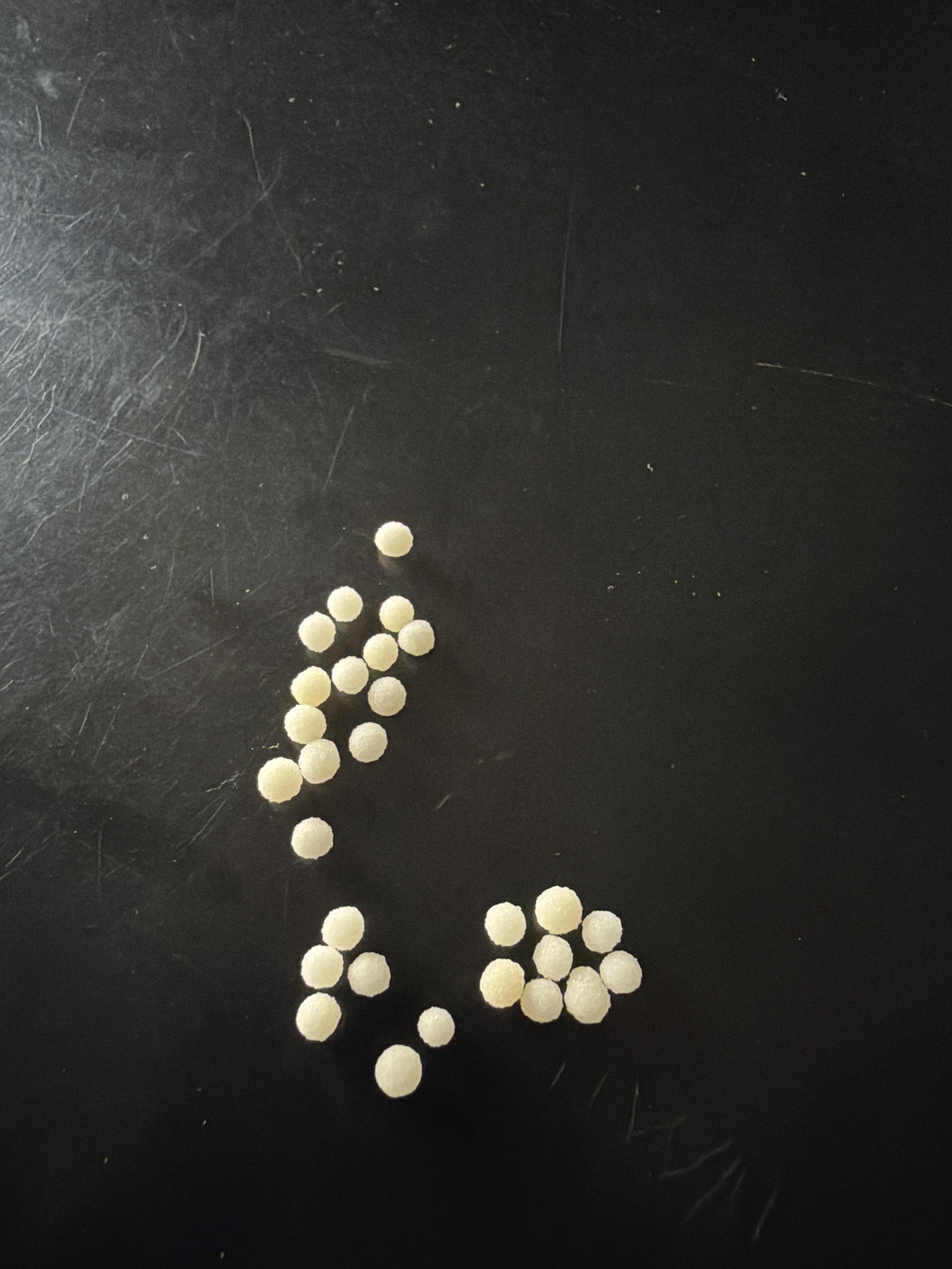pill: (564, 967, 610, 1024), (375, 1044, 422, 1098), (535, 886, 582, 934), (479, 958, 524, 1008), (296, 991, 341, 1041), (519, 977, 563, 1023), (257, 757, 301, 802), (321, 906, 364, 951), (599, 950, 642, 994), (301, 944, 343, 989), (484, 902, 526, 947), (348, 952, 390, 997), (298, 739, 340, 784), (533, 934, 573, 981), (291, 817, 333, 859), (284, 704, 326, 745), (582, 911, 622, 953), (291, 666, 331, 707), (348, 722, 387, 763), (367, 677, 406, 716), (298, 612, 336, 652), (417, 1007, 455, 1047), (331, 656, 369, 694), (362, 633, 398, 671), (374, 522, 413, 557), (398, 619, 434, 656), (327, 586, 363, 623), (379, 596, 414, 633)
